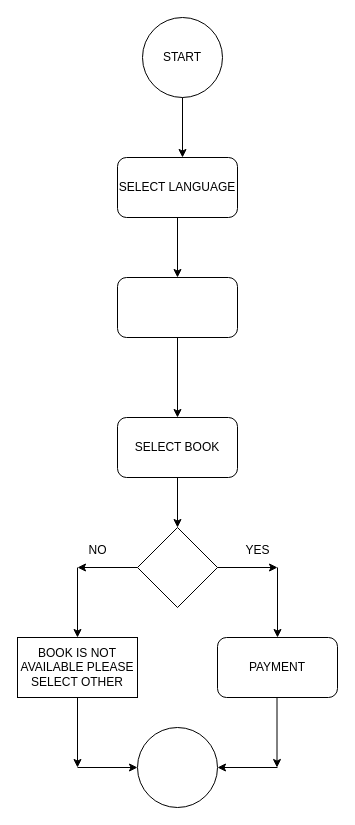
The diagram is 355 pixels wide and 825 high, and some of its shapes have lost their labels. The box of each missing label's shape, as (x1, y1, x2, y2) in pixels:
BOOK IS AVAILABLE: (136, 526, 218, 608)
END: (136, 726, 218, 808)
SELECT CATEGORY: (116, 276, 238, 338)
